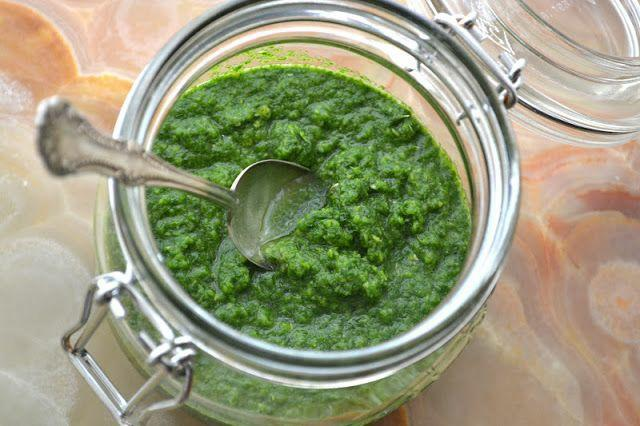GreenChutney: (105, 67, 475, 426)
